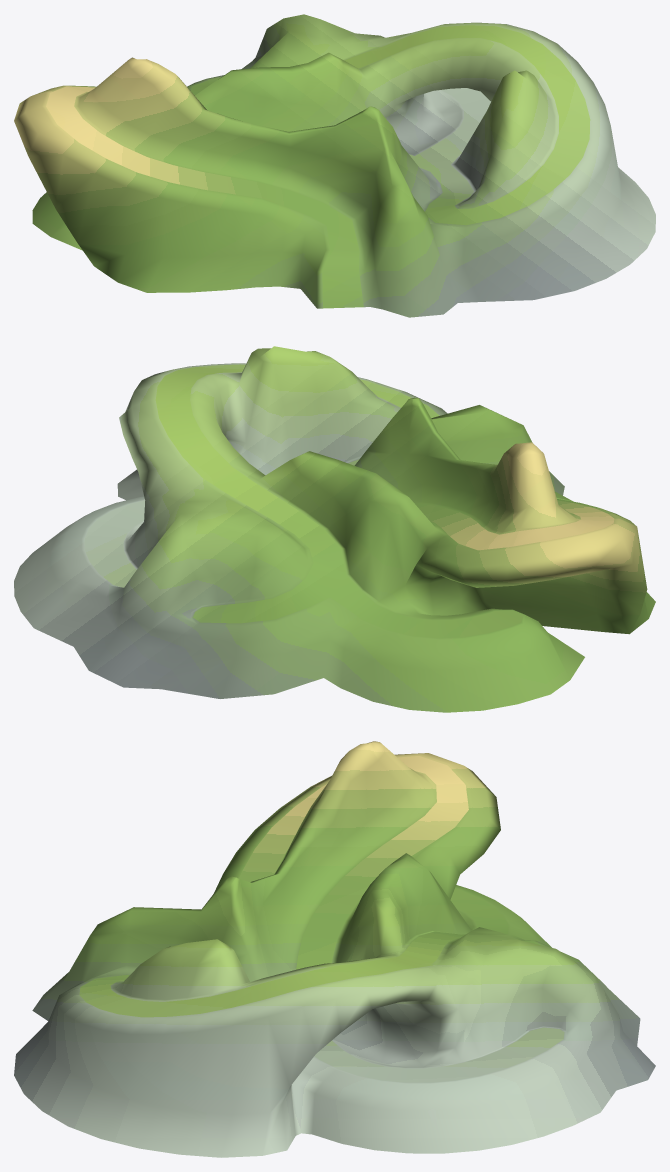
File: model_island_05.fbx
The picture shows the model from 3 angles, top to bottom: view 1: azimuth 30°, elevation 25°; view 2: azimuth 150°, elevation 25°; view 3: azimuth 270°, elevation 25°; orthographic projection. The views are drawn at different scales.
Visible parts, largest first — view 1: island_05_geo; view 2: island_05_geo; view 3: island_05_geo.
Part boxes in pixels (bbox=[...]): island_05_geo: bbox=[14, 14, 655, 317]; island_05_geo: bbox=[14, 346, 655, 712]; island_05_geo: bbox=[14, 741, 655, 1157].
Bounding box in the file's own units: 455 × 151 × 442.
